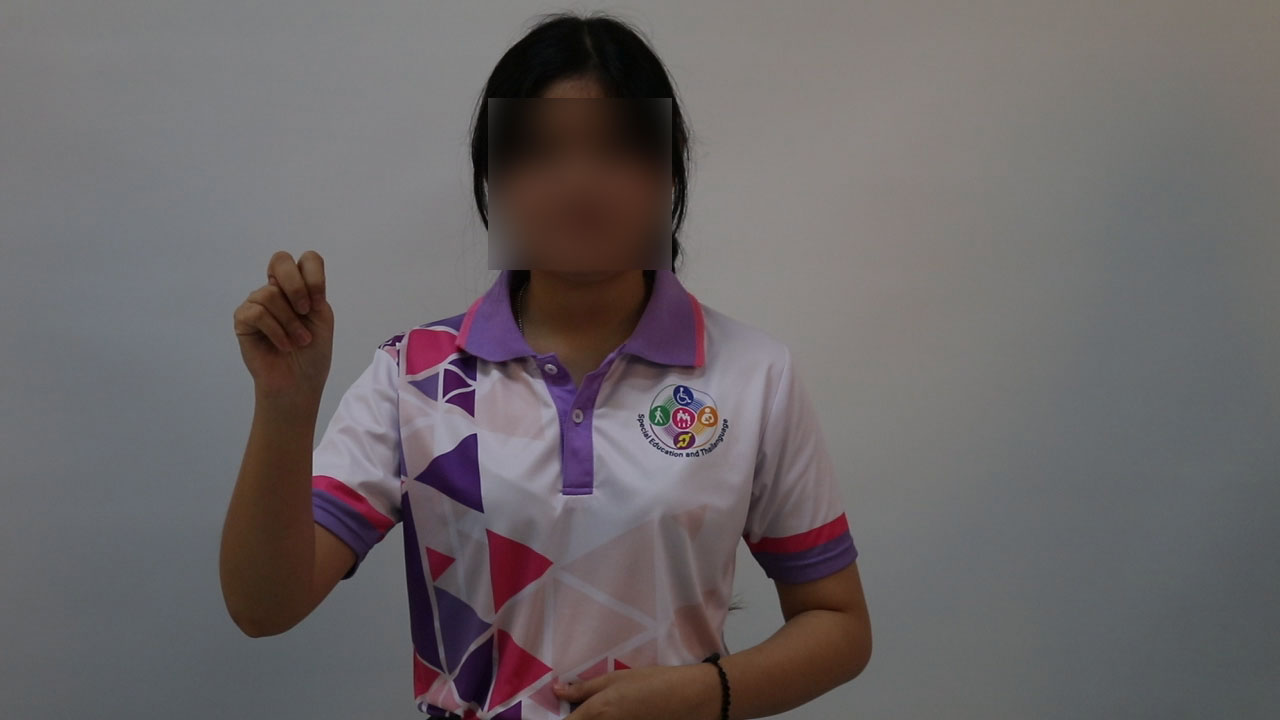nor: (225, 242, 351, 407)
